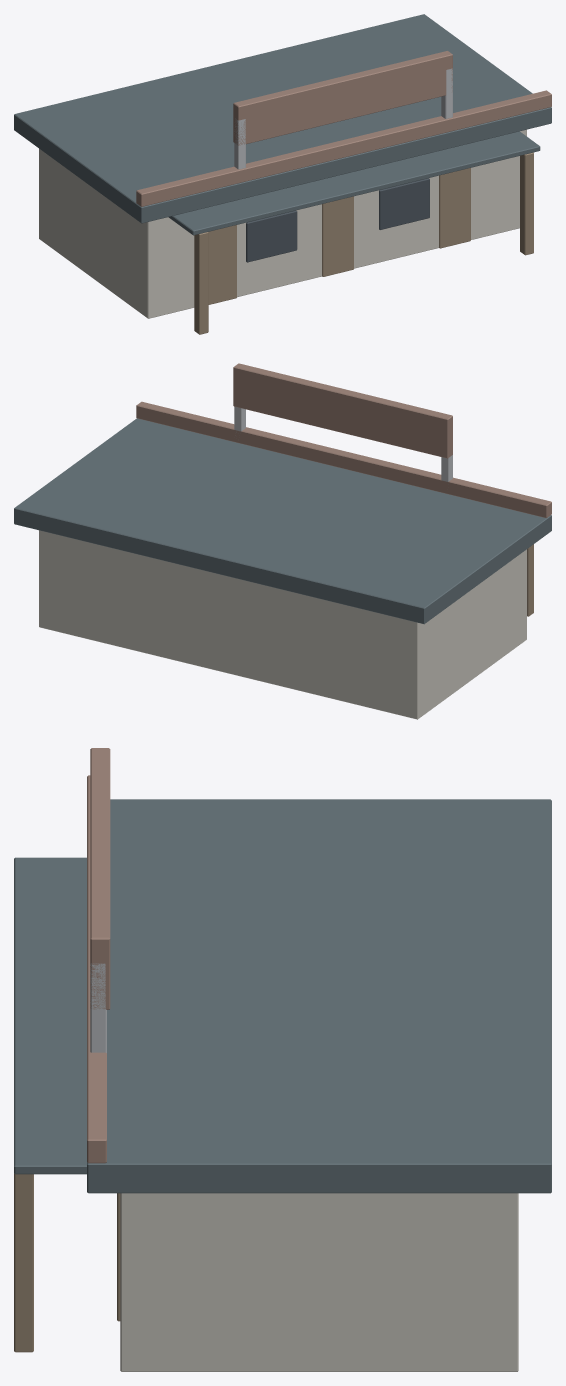
The model's file is kit_motel_lod1.glb.
3 renders of one model, top to bottom at view 1: azimuth 30°, elevation 25°; view 2: azimuth 150°, elevation 25°; view 3: azimuth 270°, elevation 25°, orthographic. The views are drawn at different scales.
Parts seen in each view (by area): view 1: roof_slab, building, sign_panel, porch_slab, parapet_front, door_1, door_2, door_0, window_0, window_1, porch_post_0, porch_post_1 (+2 smaller); view 2: roof_slab, building, sign_panel, parapet_front, porch_post_0; view 3: roof_slab, building, porch_slab, sign_panel, porch_post_1, parapet_front, sign_post_1.
Part boxes in pixels (x1,y1,x2,y2): roof_slab: (14, 14, 551, 223); building: (39, 129, 526, 318); sign_panel: (233, 51, 452, 145); porch_slab: (168, 131, 540, 235); parapet_front: (136, 90, 551, 206); door_1: (322, 196, 353, 276); door_2: (439, 168, 470, 248); door_0: (208, 225, 236, 304); window_0: (246, 210, 297, 262); window_1: (379, 178, 429, 229); porch_post_0: (194, 232, 208, 334); porch_post_1: (520, 152, 533, 255); roof_slab: (14, 418, 551, 624); building: (39, 530, 526, 719); sign_panel: (233, 363, 452, 458); parapet_front: (136, 401, 551, 518); porch_post_0: (527, 544, 533, 616); roof_slab: (87, 799, 551, 1193); building: (120, 1193, 518, 1371); porch_slab: (14, 857, 86, 1174); sign_panel: (90, 748, 110, 1009); porch_post_1: (14, 1173, 33, 1352); parapet_front: (87, 775, 106, 1163); sign_post_1: (90, 963, 106, 1052).
Bounding box in the file's own units: 13 × 6 × 8.1.
